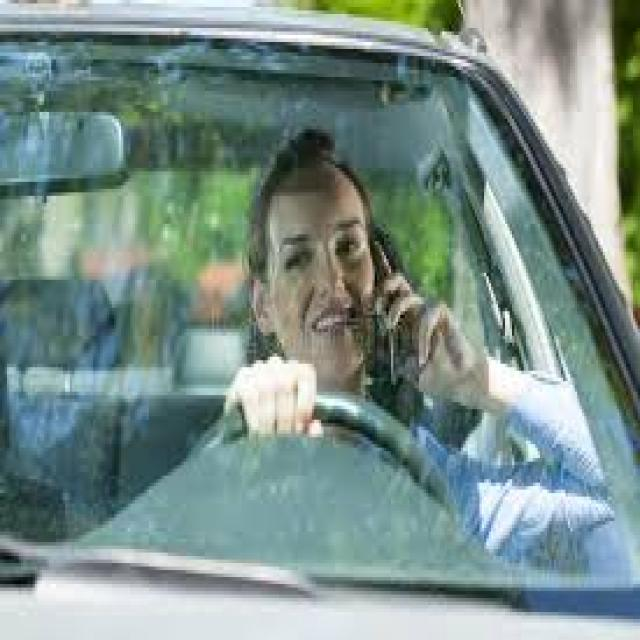Cellphone_calling: (340, 210, 449, 402)
